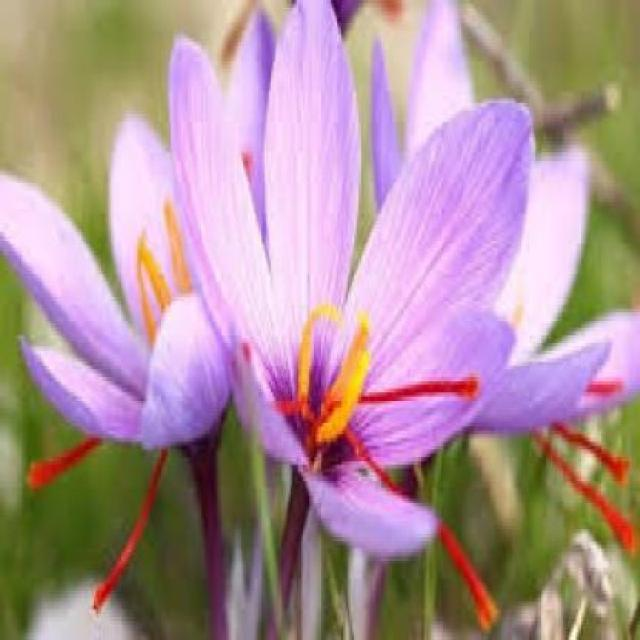Flower: (168, 0, 534, 558), (0, 88, 268, 502)
stigma: (351, 436, 504, 631), (532, 429, 640, 558), (88, 453, 165, 617), (556, 424, 636, 484), (22, 438, 100, 497), (357, 373, 484, 406)
